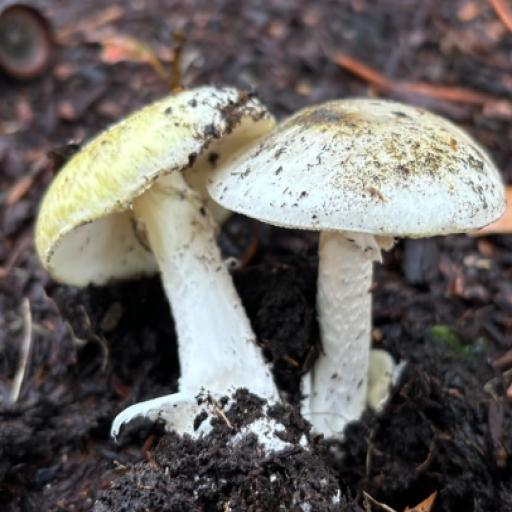mushroom: (23, 76, 508, 469), (207, 174, 345, 423)
